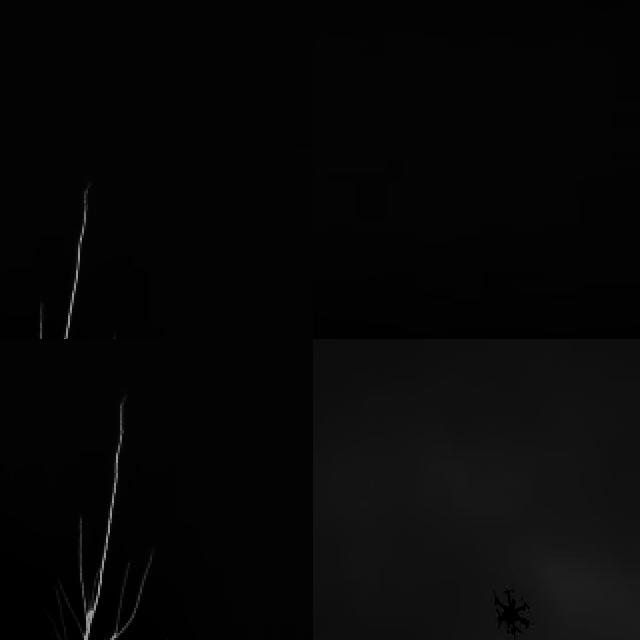drone: (490, 580, 532, 640)
